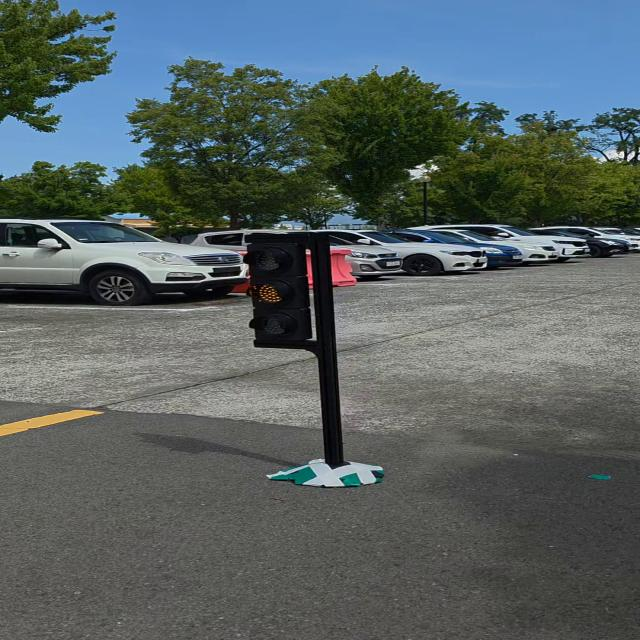yellow: (241, 235, 325, 342)
